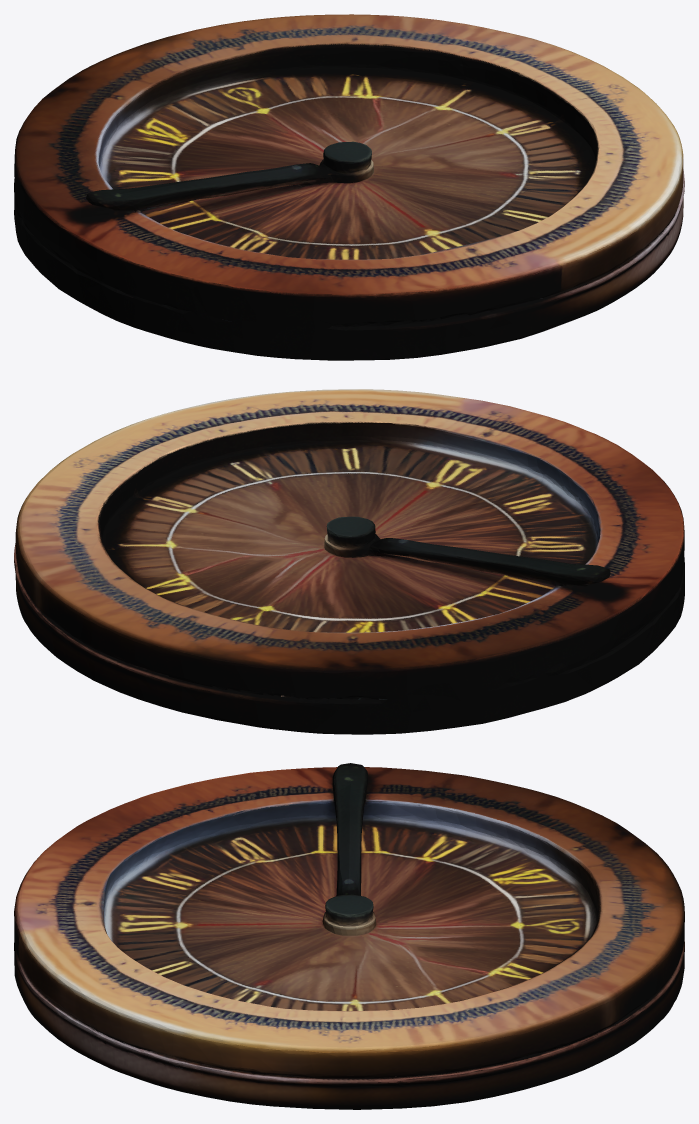
The model's file is wooden-sundial-futuristic.jpeg.glb.
The picture shows the model from 3 angles, top to bottom: view 1: azimuth 30°, elevation 25°; view 2: azimuth 150°, elevation 25°; view 3: azimuth 270°, elevation 25°; orthographic projection.
Visible parts, largest first — view 1: world; view 2: world; view 3: world.
Part boxes in pixels (bbox=[...]): world: bbox=[14, 14, 684, 360]; world: bbox=[14, 389, 684, 734]; world: bbox=[14, 763, 684, 1109].
Bounding box in the file's own units: 1 × 0.1386 × 1.
1 material, 1 textured.
